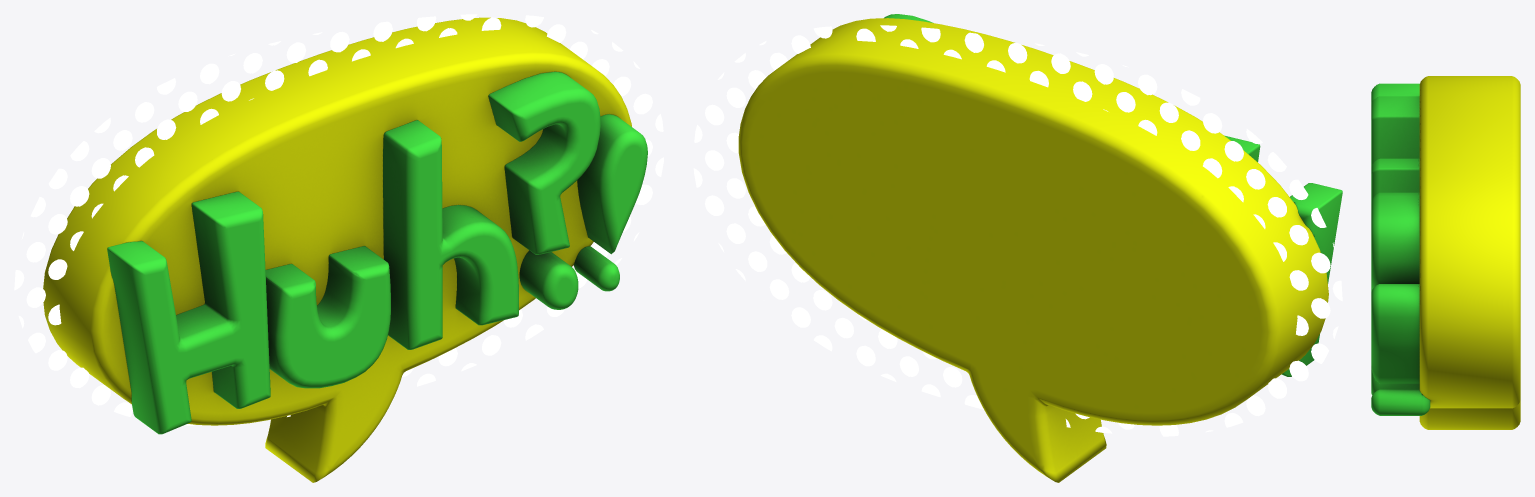
Rendered from Huh_BubbleText.glb.
3 views of the same model, side by side, from view 1: azimuth 30°, elevation 25°; view 2: azimuth 150°, elevation 25°; view 3: azimuth 270°, elevation 25° (orthographic). The views are drawn at different scales.
Parts seen in each view (by area): view 1: Vector_Huh_008.1, Vector_Huh_014.2, object 3; view 2: Vector_Huh_008.1, object 3, Vector_Huh_014.2; view 3: Vector_Huh_008.1, Vector_Huh_014.2.
Boxes of the visible parts, x1=… form: Vector_Huh_008.1: x1=43, y1=17, x2=631, y2=482; Vector_Huh_014.2: x1=107, y1=71, x2=647, y2=434; object 3: x1=14, y1=14, x2=663, y2=425; Vector_Huh_008.1: x1=738, y1=18, x2=1328, y2=482; object 3: x1=693, y1=25, x2=1342, y2=436; Vector_Huh_014.2: x1=884, y1=14, x2=1342, y2=376; Vector_Huh_008.1: x1=1419, y1=76, x2=1520, y2=429; Vector_Huh_014.2: x1=1371, y1=83, x2=1430, y2=415.
Bounding box in the file's own units: 0.158 × 0.0974 × 0.0355.
Materials: 3 (3 with a texture image).
